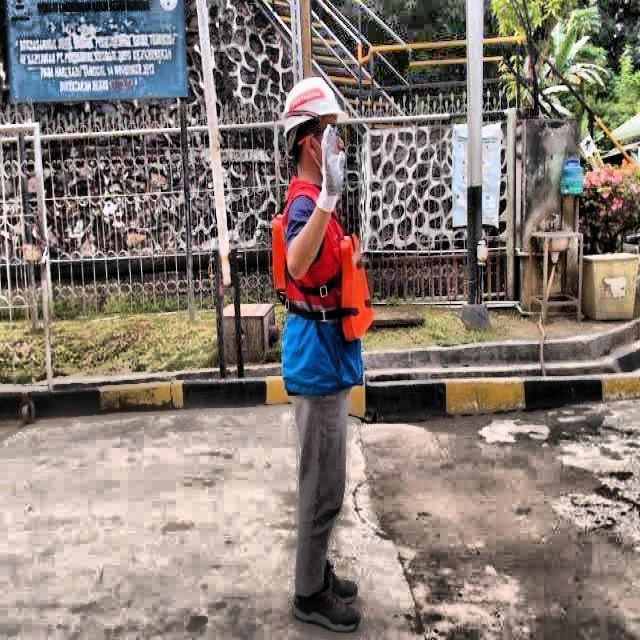safety_jacket: (268, 177, 380, 375)
